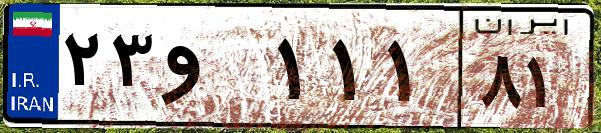1: (270, 28, 330, 110), (385, 28, 445, 110), (330, 28, 385, 110), (525, 38, 570, 115)
2: (57, 26, 110, 100)
3: (110, 28, 158, 98)
8: (475, 38, 525, 113)
و: (158, 20, 270, 120)
